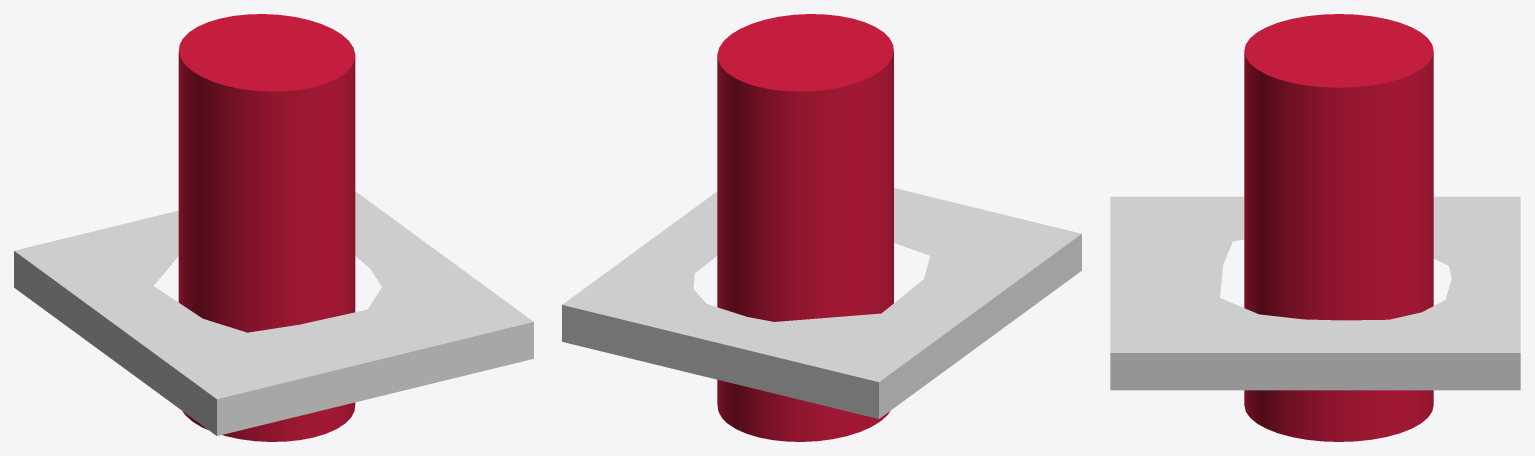
3 views of the same model, side by side, from view 1: azimuth 30°, elevation 25°; view 2: azimuth 150°, elevation 25°; view 3: azimuth 270°, elevation 25° (orthographic).
Parts seen in each view (by area): view 1: Cube, Mesh_0; view 2: Mesh_0, Cube; view 3: Mesh_0, Cube.
Boxes of the visible parts, left/top/right/bottom form: Cube: left=14, top=191, right=533, bottom=435; Mesh_0: left=178, top=14, right=355, bottom=441; Mesh_0: left=717, top=14, right=893, bottom=441; Cube: left=562, top=188, right=1081, bottom=418; Mesh_0: left=1244, top=14, right=1433, bottom=441; Cube: left=1110, top=196, right=1520, bottom=390.
Size of the model in its own units: 9.1 by 9.61 by 10.09.
